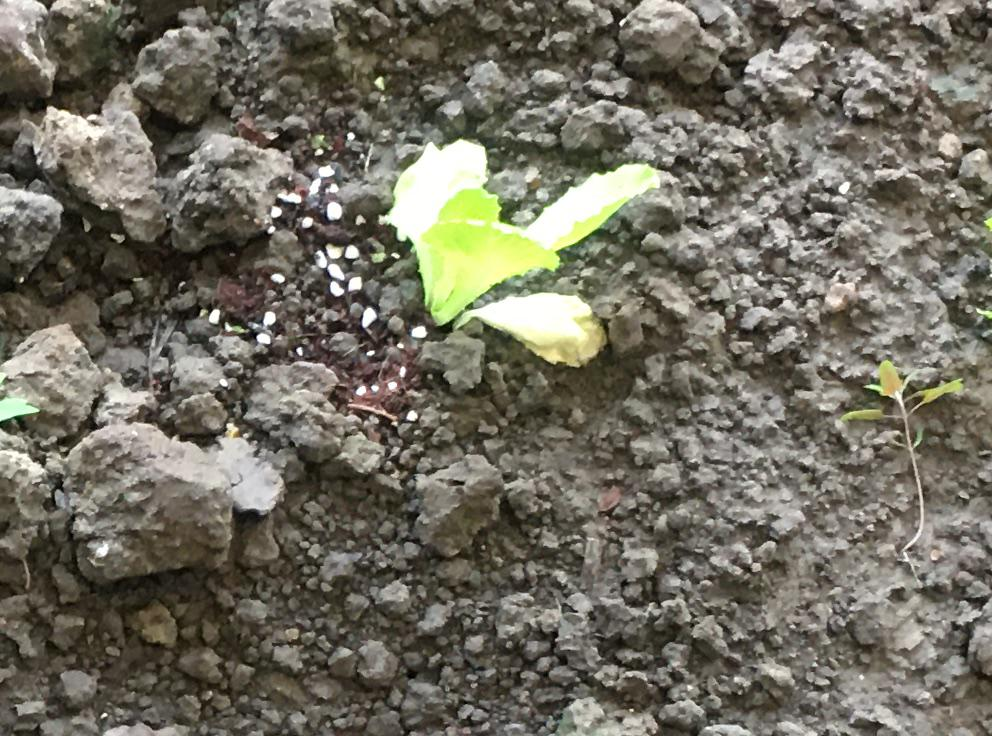block: (57, 426, 237, 584), (32, 98, 170, 239), (163, 136, 285, 247), (137, 28, 222, 129), (618, 1, 701, 79)
